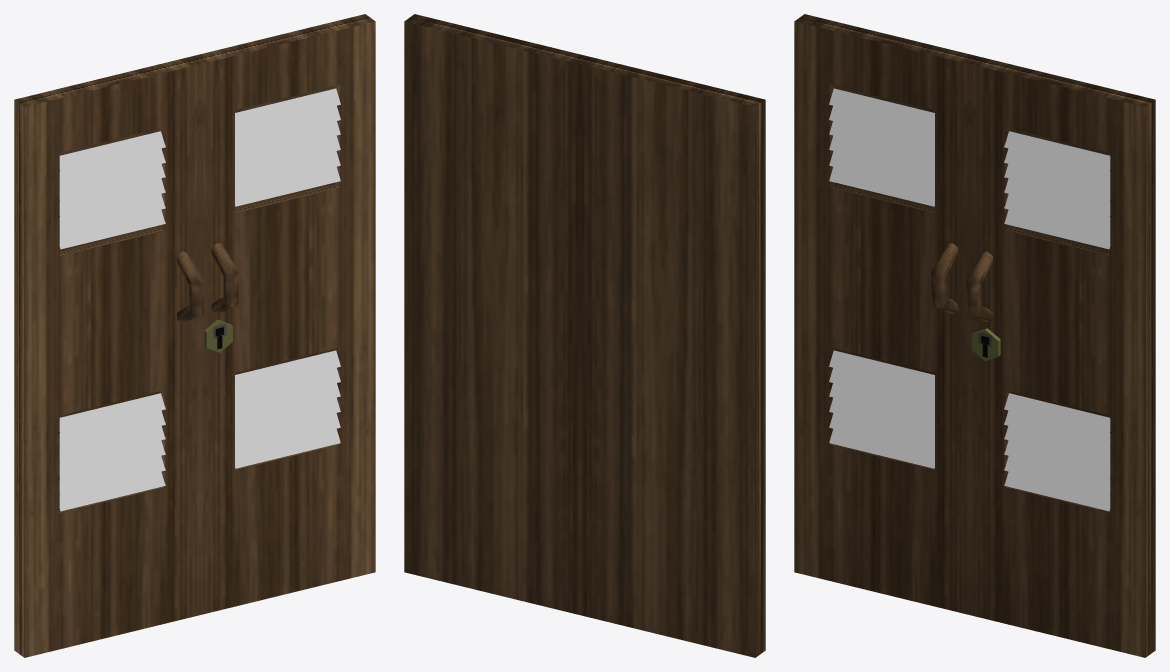
File: wardrobe.fbx
3 renders of one model, left to right at view 1: azimuth 30°, elevation 25°; view 2: azimuth 150°, elevation 25°; view 3: azimuth 330°, elevation 25°, orthographic.
Visible parts, largest first — view 1: Cube, Cube.002, Circle; view 2: Cube; view 3: Cube, Cube.002, Circle.
Boxes of the visible parts, <box> form: Cube: <box>14,14,375,657</box>; Cube.002: <box>59,88,340,511</box>; Circle: <box>204,319,232,352</box>; Cube: <box>404,14,765,657</box>; Cube: <box>794,14,1155,657</box>; Cube.002: <box>829,88,1110,511</box>; Circle: <box>972,328,1000,361</box>.
Bounding box in the file's own units: 200 × 300 × 26.79.
